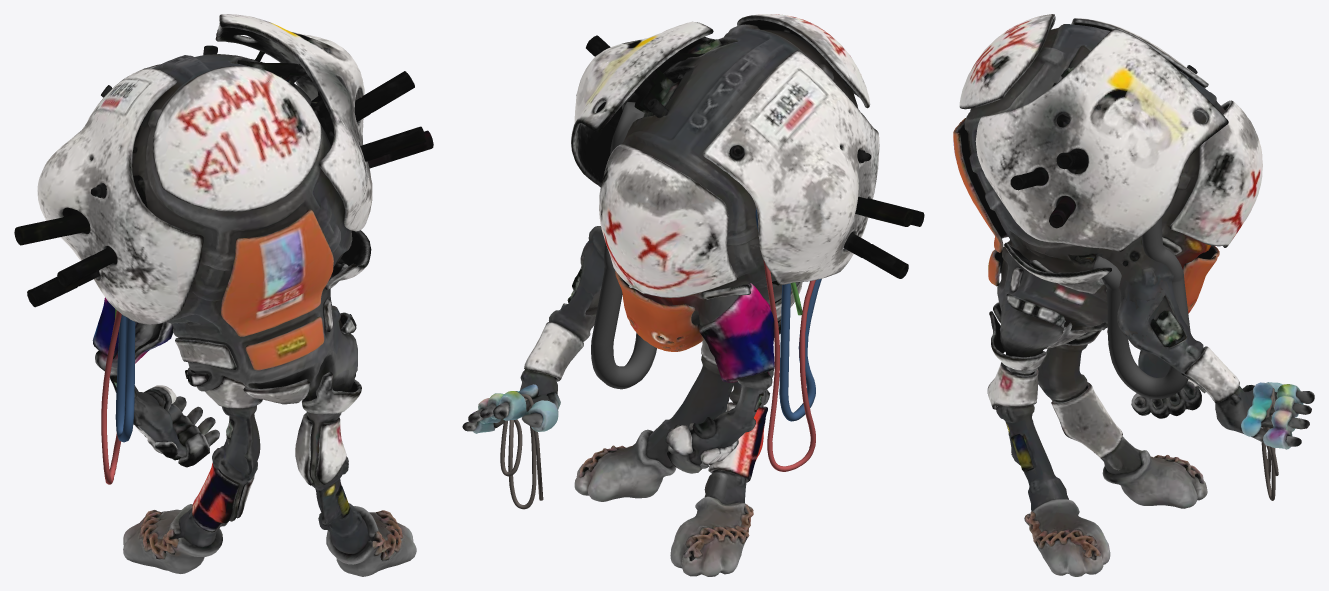
The model's file is bean_bot-transformed.glb.
3 renders of one model, left to right at view 1: azimuth 30°, elevation 25°; view 2: azimuth 150°, elevation 25°; view 3: azimuth 270°, elevation 25°, orthographic. The views are drawn at different scales.
Parts seen in each view (by area): view 1: Group24954_1_BeanBot_0, Sweep_1_Blue_0, Sweep_4_Red_0; view 2: Group24954_1_BeanBot_0, Sweep_Grey_0, Sweep_4_Red_0, Sweep_1_Blue_0, Sweep_2_Brown_0; view 3: Group24954_1_BeanBot_0, Sweep_Grey_0, Sweep_2_Brown_0.
Part boxes in pixels (x1,y1,x2,y2): Group24954_1_BeanBot_0: (14, 14, 433, 576); Sweep_1_Blue_0: (115, 314, 135, 442); Sweep_4_Red_0: (101, 310, 121, 484); Group24954_1_BeanBot_0: (462, 14, 924, 576); Sweep_Grey_0: (591, 102, 656, 389); Sweep_4_Red_0: (763, 260, 815, 471); Sweep_1_Blue_0: (755, 208, 821, 421); Sweep_2_Brown_0: (500, 394, 543, 509); Group24954_1_BeanBot_0: (953, 14, 1314, 576); Sweep_Grey_0: (1092, 218, 1190, 399); Sweep_2_Brown_0: (1261, 388, 1278, 500).
Bounding box in the file's own units: 212 × 292 × 197.
6 materials, 1 textured.
